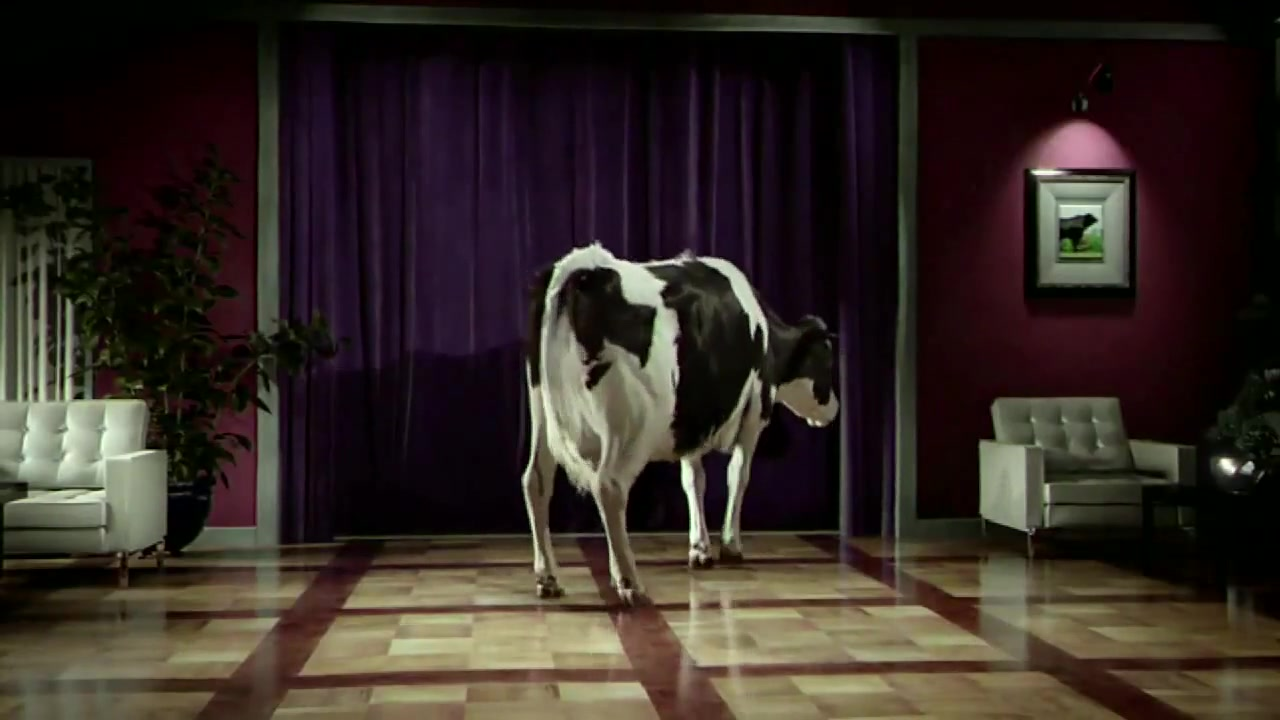cow: (515, 247, 844, 611)
